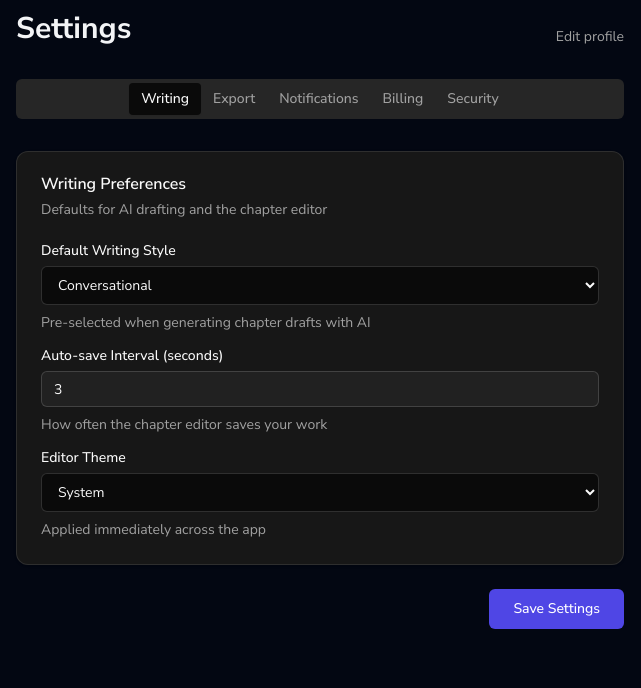
Test: SettingsPage › shows all five notification toggles disabled as "coming soon" (#195)
The width and height of the screenshot is (641, 688).
Expected: the button "Save Settings" is enabled, x1=489 y1=589 x2=624 y2=629
Click the tab "Notifications" at (319, 99), box x1=267 y1=83 x2=370 y2=115
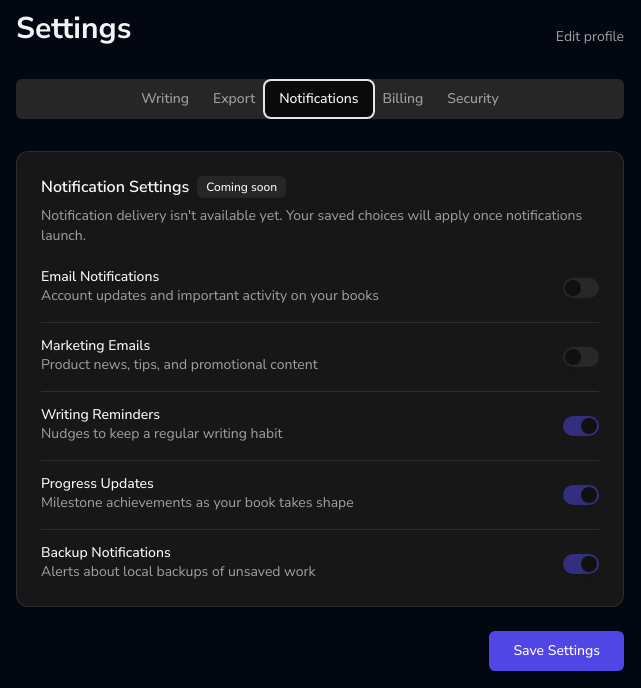
Expected: the text "Coming soon" is shown, x1=197 y1=176 x2=286 y2=198
Expected: the text "delivery isn't available yet" is shown, x1=41 y1=206 x2=582 y2=245
Expected: the switch named "Writing Reminders" in the row of "Nudges to keep a regular writing habit" is checked, x1=563 y1=416 x2=599 y2=436
